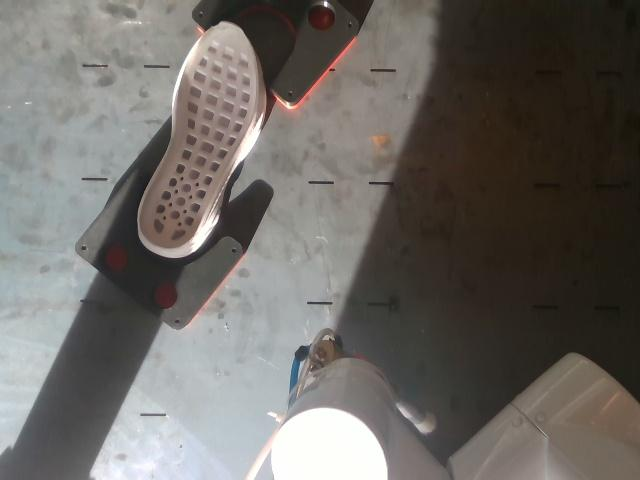shoes: (139, 23, 256, 249)
